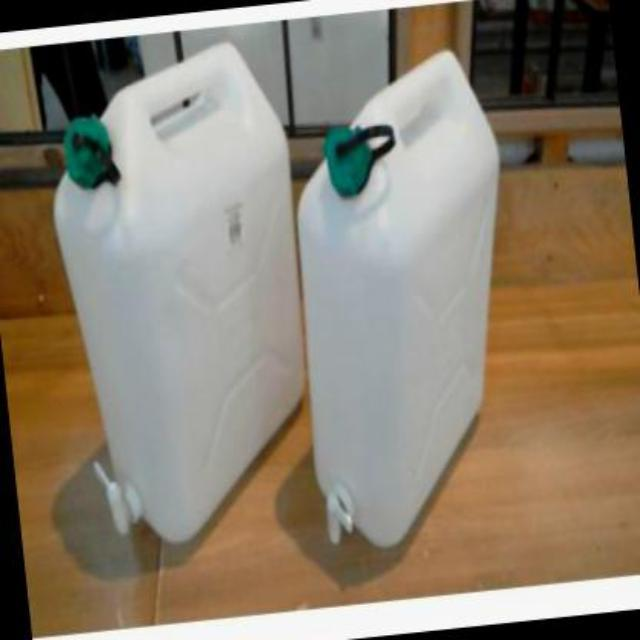Botella de plastico: (52, 43, 308, 551), (295, 51, 501, 552)
